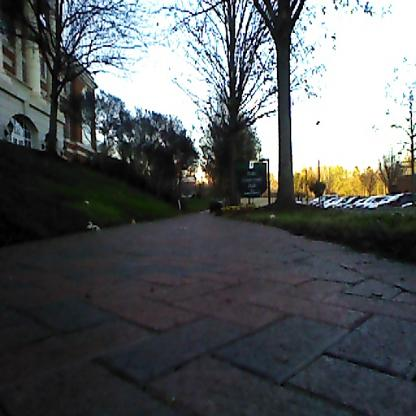Edge: (234, 212, 416, 288)
Sidewalk: (0, 211, 416, 416)
